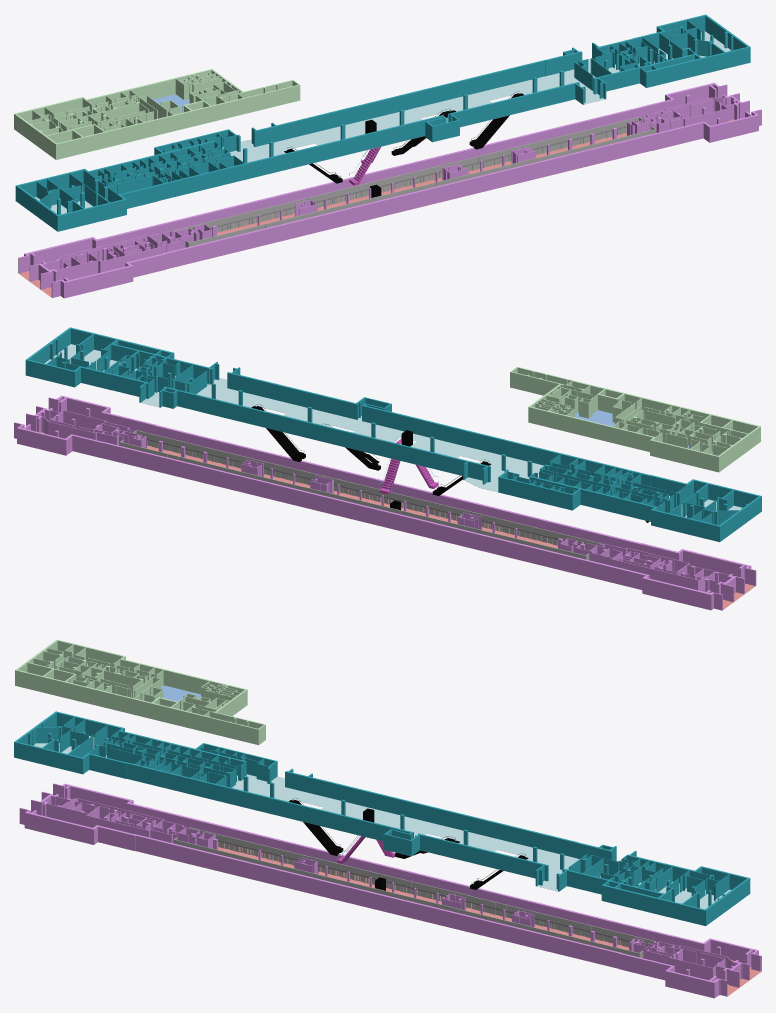
3 views of the same model, one above another, from view 1: azimuth 30°, elevation 25°; view 2: azimuth 150°, elevation 25°; view 3: azimuth 330°, elevation 25° (orthographic).
Visible parts, largest first — view 1: JZ-QT001, JZ-QT, JZ-QT002, JZ-DM001, JZ-QT-002, PPM001, JZ-QT-1, PPM, JZ-QT-003, JZ-DM, JZ-FT-004; view 2: JZ-QT001, JZ-QT, JZ-QT002, JZ-DM001, JZ-QT-002, PPM001, JZ-QT-1, PPM, JZ-QT-003, JZ-DM, JZ-FT-004; view 3: JZ-QT001, JZ-QT, JZ-QT002, JZ-DM001, JZ-QT-002, PPM001, JZ-QT-1, PPM, JZ-QT-003, JZ-DM.
Boxes of the visible parts, x1,y1,x2,y2 form: JZ-QT001: [15, 16, 750, 231]; JZ-QT: [18, 84, 761, 298]; JZ-QT002: [14, 70, 300, 159]; JZ-DM001: [19, 31, 737, 231]; JZ-QT-002: [16, 14, 750, 216]; PPM001: [172, 117, 655, 247]; JZ-QT-1: [18, 82, 761, 282]; PPM: [455, 117, 655, 177]; JZ-QT-003: [14, 69, 299, 144]; JZ-DM: [19, 118, 753, 297]; JZ-FT-004: [469, 93, 523, 149]; JZ-QT001: [25, 328, 761, 541]; JZ-QT: [14, 397, 756, 610]; JZ-QT002: [510, 367, 760, 472]; JZ-DM001: [44, 344, 742, 542]; JZ-QT-002: [26, 327, 761, 526]; PPM001: [120, 430, 601, 560]; JZ-QT-1: [15, 395, 755, 594]; PPM: [119, 430, 319, 490]; JZ-QT-003: [510, 367, 760, 456]; JZ-DM: [31, 431, 755, 610]; JZ-FT-004: [251, 406, 305, 461]; JZ-QT001: [14, 712, 750, 926]; JZ-QT: [19, 784, 761, 998]; JZ-QT002: [15, 640, 265, 744]; JZ-DM001: [15, 736, 730, 909]; JZ-QT-002: [14, 711, 749, 910]; PPM001: [173, 827, 655, 958]; JZ-QT-1: [20, 783, 761, 982]; PPM: [456, 896, 656, 957]; JZ-QT-003: [15, 639, 265, 729]; JZ-DM: [45, 833, 761, 996].
Bounding box in the file's own units: 287 × 60.6 × 33.97.
